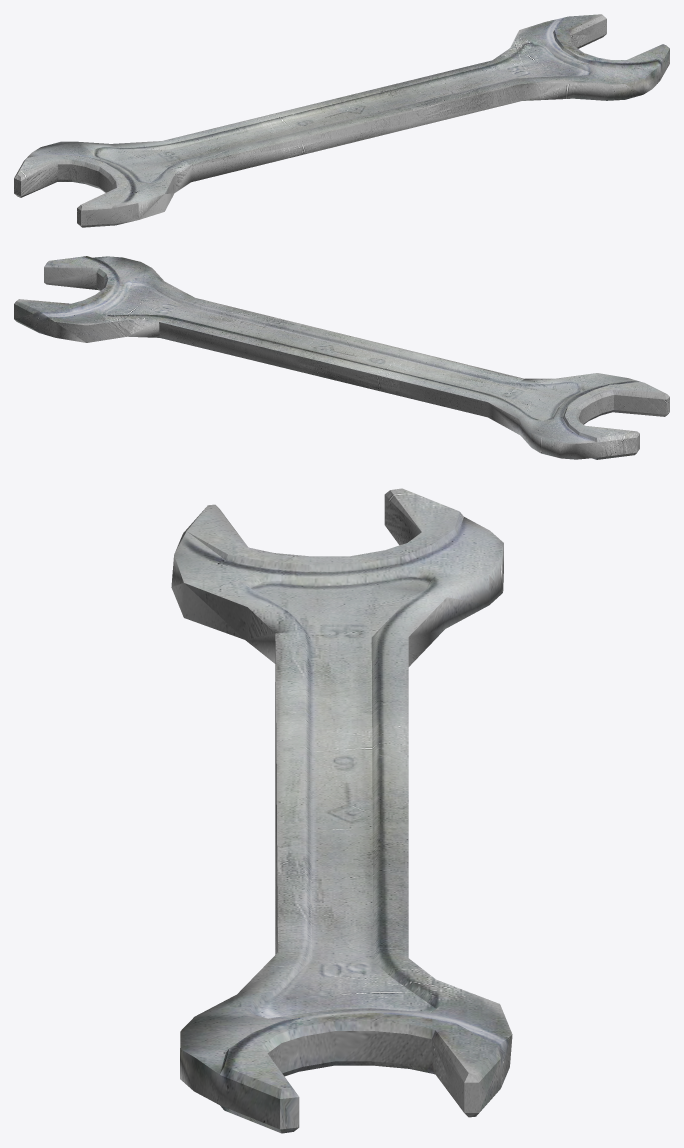
File: Wrench01.FBX
The picture shows the model from 3 angles, top to bottom: view 1: azimuth 30°, elevation 25°; view 2: azimuth 150°, elevation 25°; view 3: azimuth 270°, elevation 25°; orthographic projection. The views are drawn at different scales.
Visible parts, largest first — view 1: Wrench01_LOD1; view 2: Wrench01_LOD1; view 3: Wrench01_LOD1.
Part boxes in pixels (x1,y1,x2,y2): Wrench01_LOD1: (14,14,669,227); Wrench01_LOD1: (14,256,669,459); Wrench01_LOD1: (171,488,512,1133).
Bounding box in the file's own units: 29.83 × 1.01 × 7.09.
